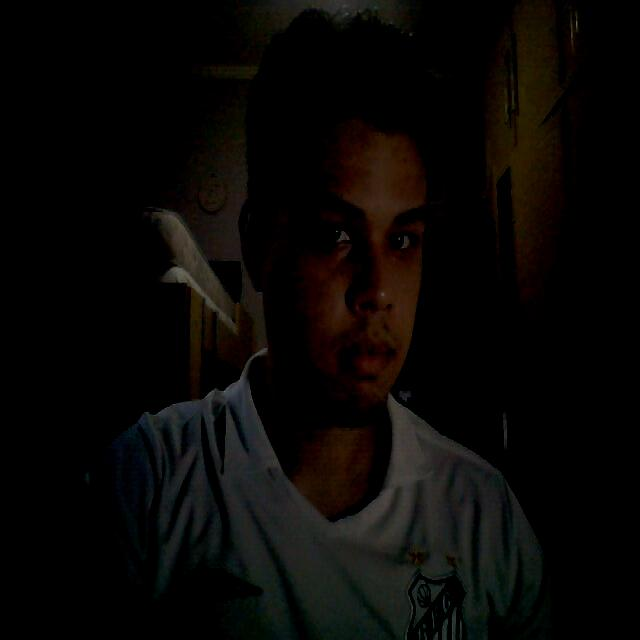acordado: (234, 51, 440, 446)
